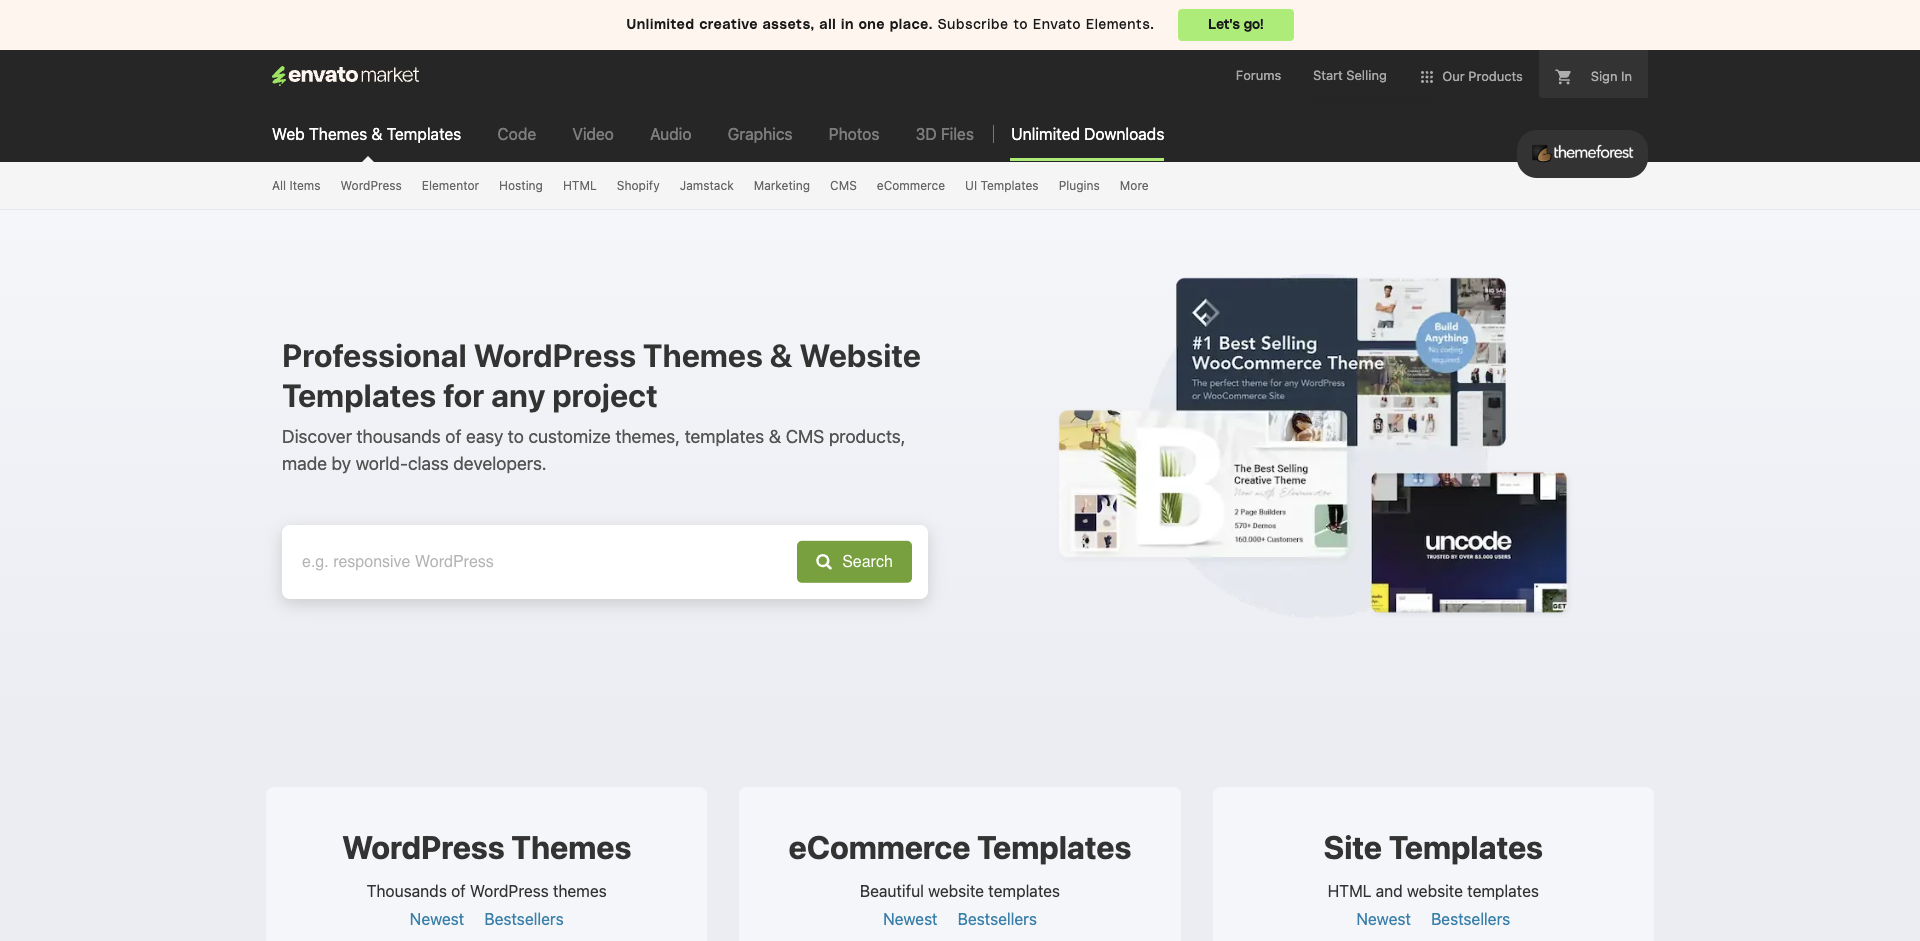button: (797, 541, 912, 583)
dropdown: (1307, 98, 1429, 206), (1307, 98, 1429, 177), (1403, 50, 1539, 98), (1579, 50, 1648, 98), (1319, 161, 1416, 169), (1319, 116, 1408, 124), (1319, 108, 1416, 115), (1319, 139, 1407, 146), (1319, 131, 1416, 137), (1319, 153, 1416, 159), (1306, 98, 1429, 98), (1464, 98, 1464, 98)
icon: (1555, 69, 1571, 85)
input: (282, 525, 928, 599)
link: (0, 0, 1920, 50), (789, 828, 1131, 866), (342, 828, 631, 866), (272, 106, 461, 162), (1324, 828, 1543, 866), (1403, 50, 1539, 98), (1297, 50, 1403, 98), (272, 66, 419, 98), (1220, 50, 1297, 98), (728, 106, 793, 162), (1579, 50, 1648, 98), (916, 106, 974, 162), (955, 169, 1049, 203), (867, 169, 955, 203), (1307, 104, 1429, 127), (829, 106, 879, 162), (1010, 125, 1164, 143), (331, 169, 412, 203), (1307, 127, 1429, 149), (1307, 149, 1429, 171), (412, 169, 489, 203), (744, 169, 820, 203), (670, 169, 744, 203), (572, 106, 614, 162), (650, 106, 692, 162), (262, 169, 331, 203), (497, 106, 536, 162), (489, 169, 553, 203), (607, 169, 670, 203), (1049, 169, 1110, 203), (1539, 50, 1579, 98), (484, 907, 564, 931), (958, 907, 1037, 931), (1431, 907, 1510, 931), (553, 169, 607, 203), (1110, 169, 1159, 203), (820, 169, 867, 203), (883, 907, 938, 931), (1356, 907, 1411, 931), (410, 907, 464, 931), (8, 0, 136, 8), (1340, 184, 1386, 192), (1370, 192, 1397, 200)
